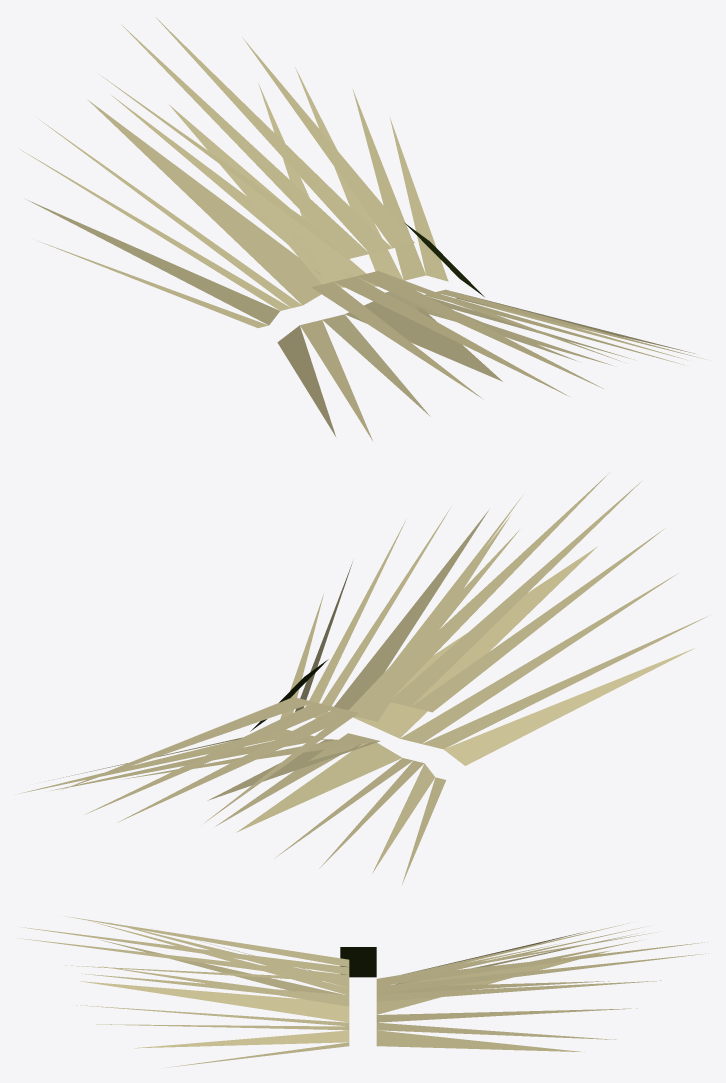
File: inv_grain.obj
3 views of the same model, one above another, from view 1: azimuth 30°, elevation 25°; view 2: azimuth 150°, elevation 25°; view 3: azimuth 270°, elevation 25° (orthographic). The views are drawn at different scales.
Size of the model in its own units: 0.2578 by 0.0703 by 0.6016.
